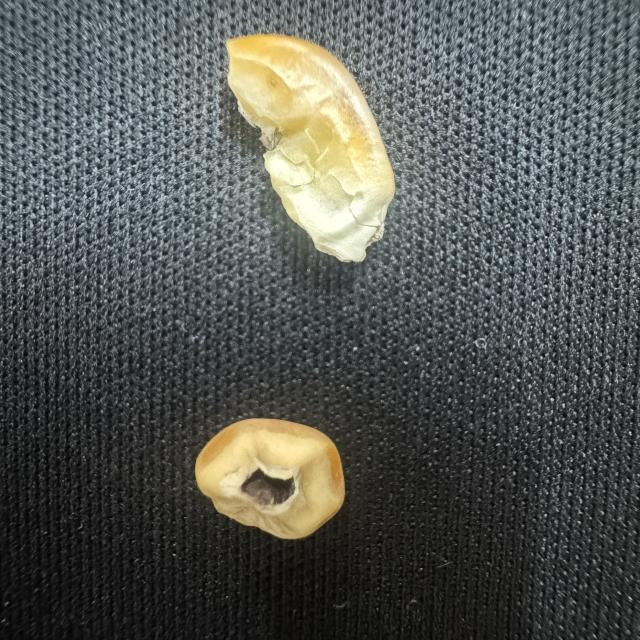Bad-Seed: (191, 27, 414, 276), (184, 404, 358, 546)
